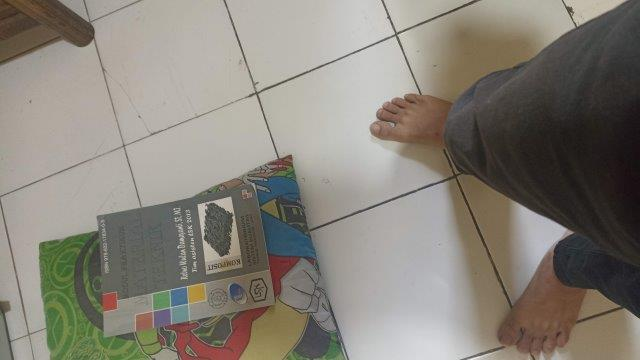kertas: (96, 182, 277, 341)
